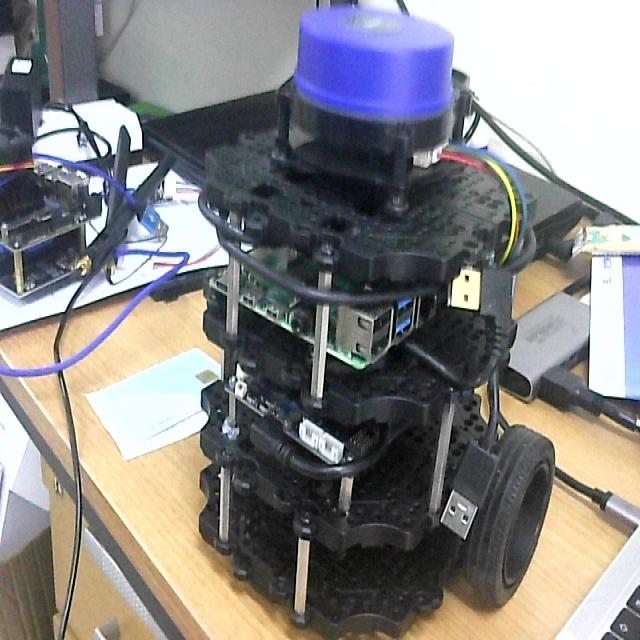turtle: (197, 4, 558, 640)
